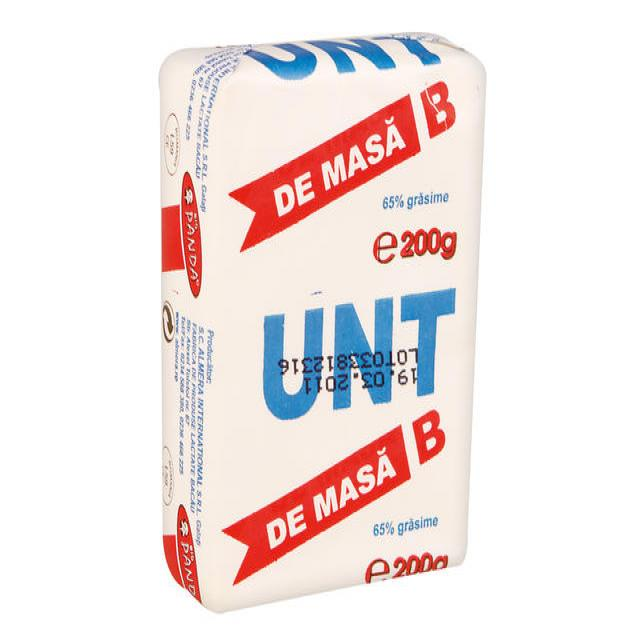butter: (160, 30, 487, 612)
